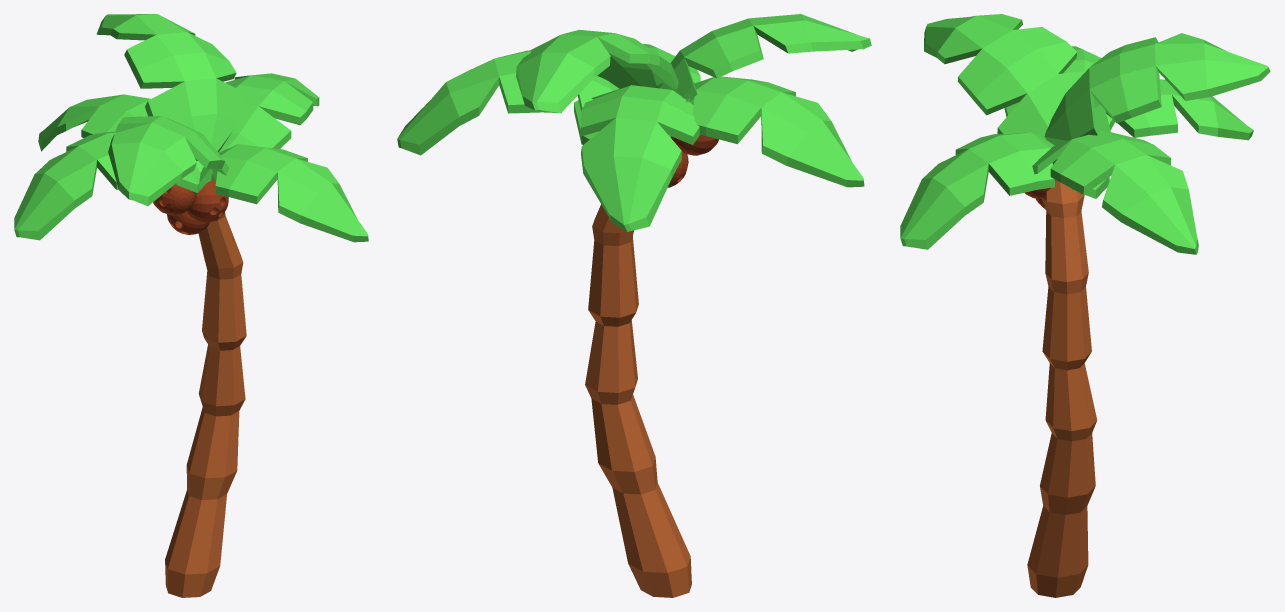
Rendered from Valmis_Palmu-rakennettu-1.fbx.
3 renders of one model, left to right at view 1: azimuth 30°, elevation 25°; view 2: azimuth 150°, elevation 25°; view 3: azimuth 270°, elevation 25°, orthographic. The views are drawn at different scales.
Visible parts, largest first — view 1: Cube, Cylinder, Sphere; view 2: Cube, Cylinder, Sphere; view 3: Cube, Cylinder.
Boxes of the visible parts, bbox=[...] form: Cube: bbox=[14, 14, 368, 242]; Cylinder: bbox=[165, 212, 246, 597]; Sphere: bbox=[153, 179, 228, 234]; Cube: bbox=[397, 14, 871, 231]; Cylinder: bbox=[585, 204, 691, 597]; Sphere: bbox=[667, 134, 718, 187]; Cube: bbox=[900, 14, 1270, 254]; Cylinder: bbox=[1027, 180, 1097, 597].
Bounding box in the file's own units: 1721 × 2445 × 1483.
